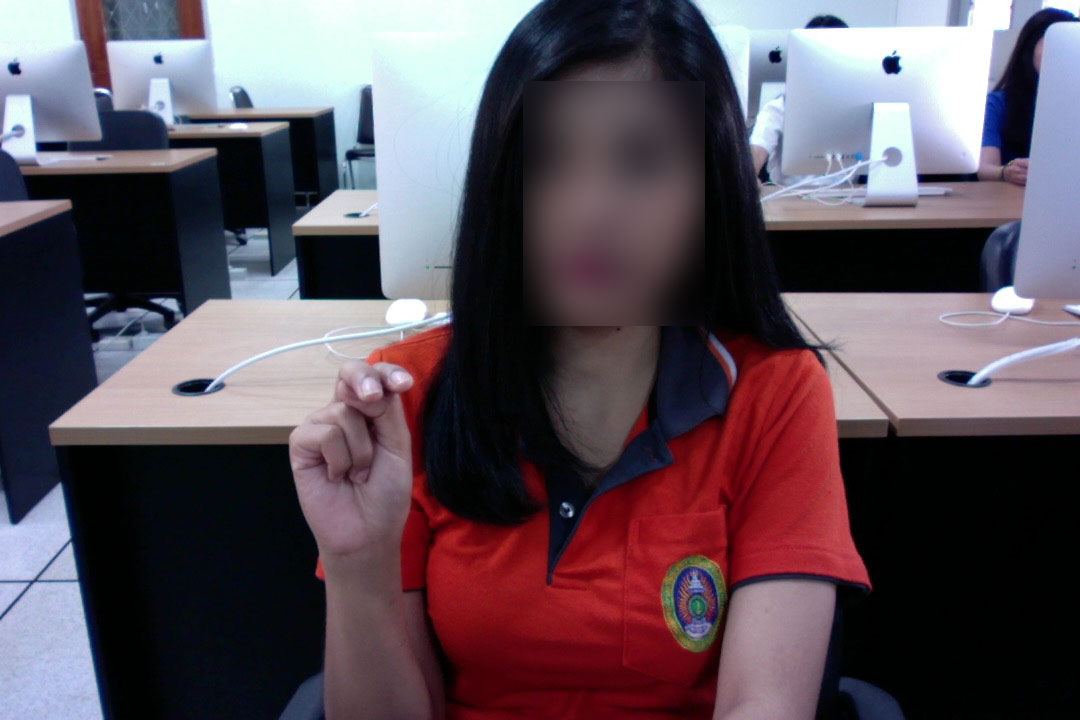nor: (278, 354, 420, 560)
